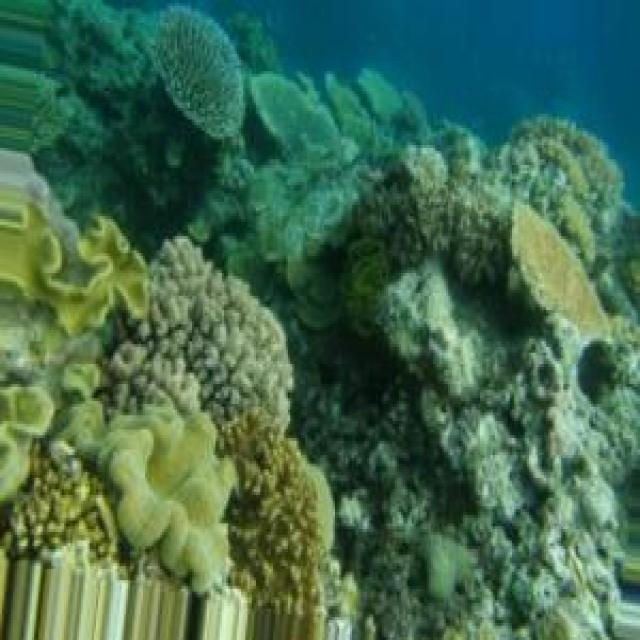bleached coral: (403, 119, 634, 307), (465, 484, 610, 631), (405, 259, 557, 393), (348, 509, 461, 640), (572, 341, 640, 509), (442, 404, 525, 521)
healthy coral: (149, 239, 329, 640), (62, 0, 245, 188), (73, 401, 235, 597), (267, 82, 373, 307), (0, 432, 130, 566), (38, 188, 147, 327), (363, 412, 410, 501)
